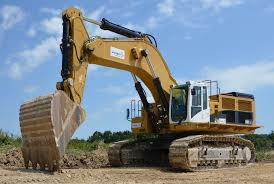excavator: (13, 5, 258, 172)
